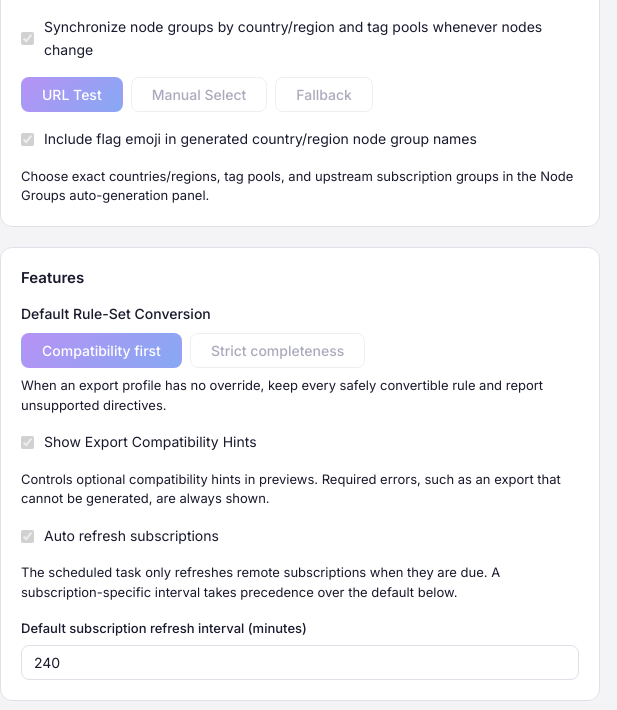
Scenario: Settings data safety › blocks mutations until the initial authoritative settings request settles
The width and height of the screenshot is (617, 710).
(page scrolled)
Click the button "Strict completeness" at x=278, y=351, box [190,333,365,368]
(page scrolled)
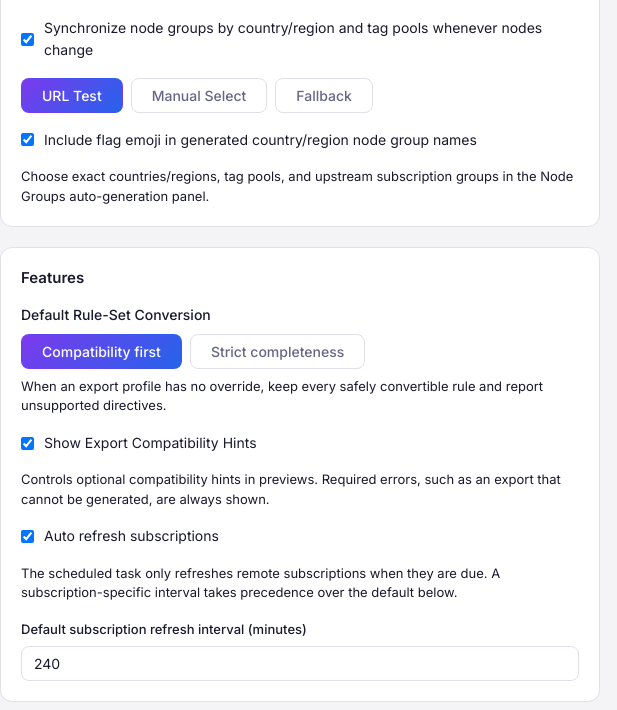
Check: the button "Strict completeness" is enabled, box [190,334,365,369]
